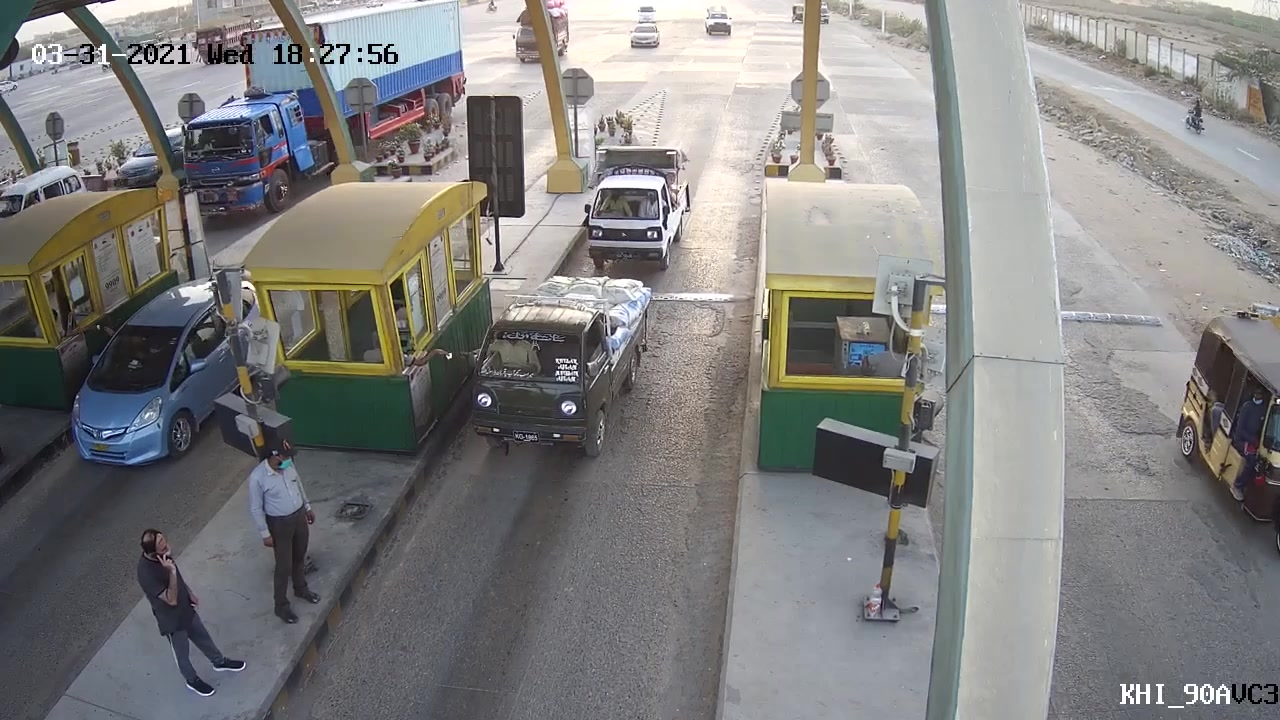F1: (468, 276, 665, 459), (578, 132, 700, 270)
